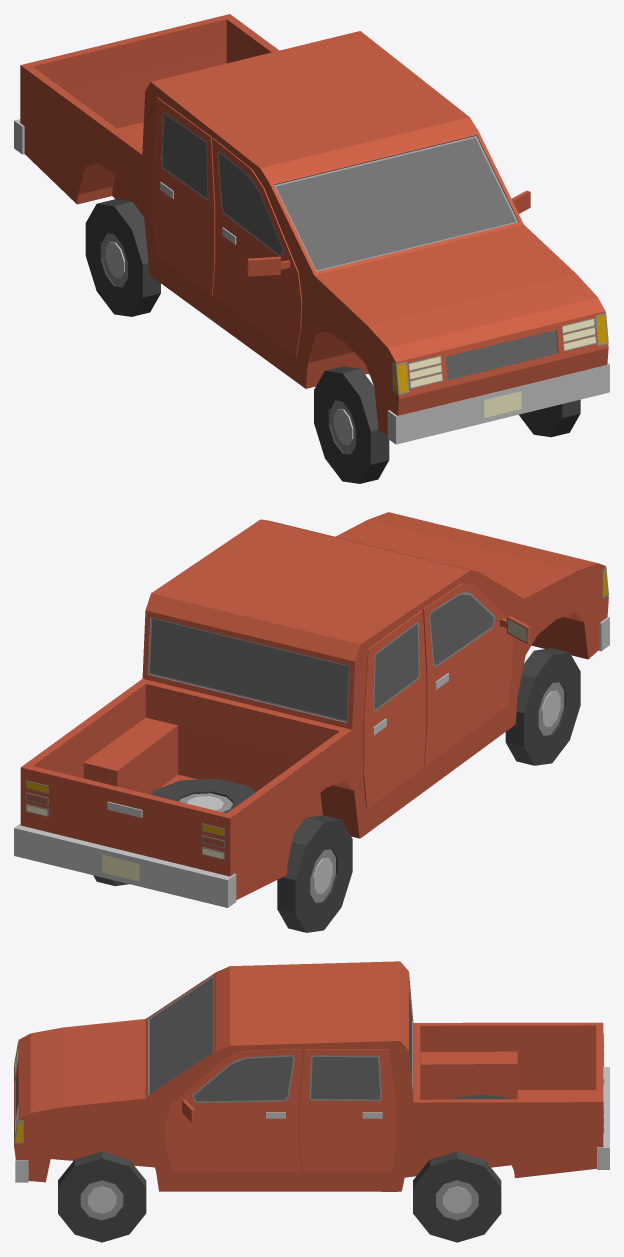
File: pickup_1.fbx
The picture shows the model from 3 angles, top to bottom: view 1: azimuth 30°, elevation 25°; view 2: azimuth 150°, elevation 25°; view 3: azimuth 270°, elevation 25°; orthographic projection. The views are drawn at different scales.
Parts seen in each view (by area): view 1: df, Cylinder_2_3, Cylinder_2_1, Cylinder_2_2; view 2: df, Cylinder_2_1, Cylinder_2_3; view 3: df, Cylinder_2_2, Cylinder_2.
Part boxes in pixels (x1,y1,x2,y2): df: [14, 14, 609, 444]; Cylinder_2_3: [314, 366, 389, 483]; Cylinder_2_1: [85, 199, 160, 316]; Cylinder_2_2: [519, 399, 580, 437]; df: [14, 512, 609, 907]; Cylinder_2_1: [277, 815, 352, 932]; Cylinder_2_3: [505, 648, 580, 765]; df: [14, 961, 609, 1191]; Cylinder_2_2: [58, 1151, 146, 1242]; Cylinder_2: [413, 1151, 501, 1242].
Size of the model in its own units: 156 by 137 by 367.
